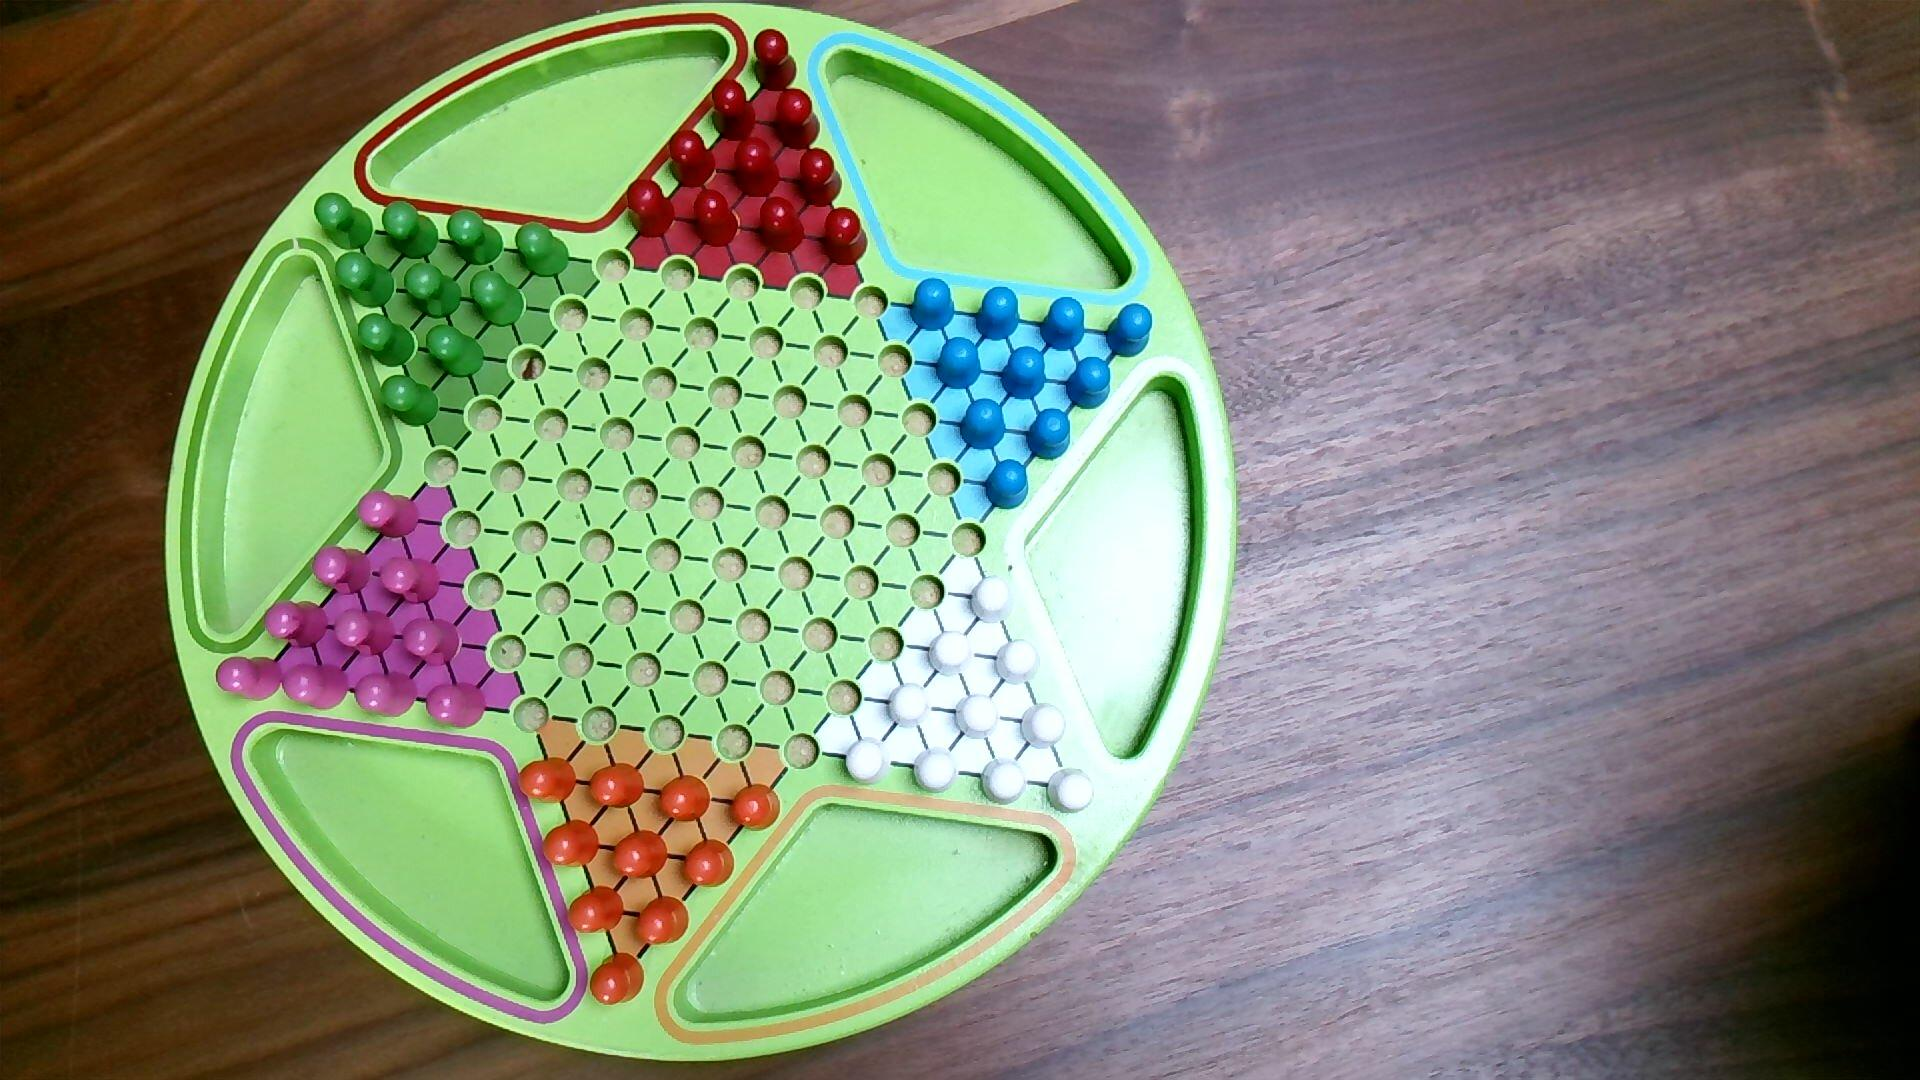B: (1038, 295, 1089, 353), (1105, 302, 1155, 360), (959, 397, 1009, 454), (1064, 355, 1113, 413), (975, 285, 1023, 343), (935, 336, 985, 392), (1000, 345, 1048, 402), (909, 277, 957, 334), (1025, 407, 1073, 463), (984, 458, 1033, 512)
G: (313, 193, 375, 253), (381, 199, 440, 262), (404, 261, 464, 322), (444, 208, 506, 268), (335, 251, 396, 310), (357, 313, 418, 371), (425, 323, 487, 380), (514, 220, 572, 280), (469, 268, 526, 328), (380, 375, 440, 429)
O: (607, 825, 671, 884), (564, 884, 626, 938), (516, 754, 580, 806), (589, 951, 647, 1007), (541, 818, 603, 869), (634, 894, 691, 949), (680, 836, 737, 890), (655, 773, 713, 825), (587, 761, 647, 811), (727, 781, 783, 833)
R: (625, 177, 678, 240), (733, 135, 783, 200), (774, 86, 823, 153), (822, 206, 872, 269), (691, 186, 741, 249), (667, 127, 717, 190), (711, 76, 758, 142), (753, 28, 799, 94), (758, 195, 807, 256), (798, 146, 845, 208)
R2: (277, 659, 353, 713), (262, 599, 332, 651), (214, 654, 286, 704), (334, 607, 400, 659), (311, 545, 375, 599), (400, 616, 463, 670), (357, 489, 423, 541), (378, 555, 444, 607), (353, 670, 421, 720), (425, 680, 489, 732)
W: (1044, 765, 1097, 818), (926, 628, 978, 680), (843, 735, 894, 789), (992, 636, 1043, 688), (978, 756, 1029, 808), (911, 744, 961, 796), (967, 572, 1015, 626), (953, 692, 1004, 744), (1021, 702, 1069, 754), (885, 680, 935, 731)
